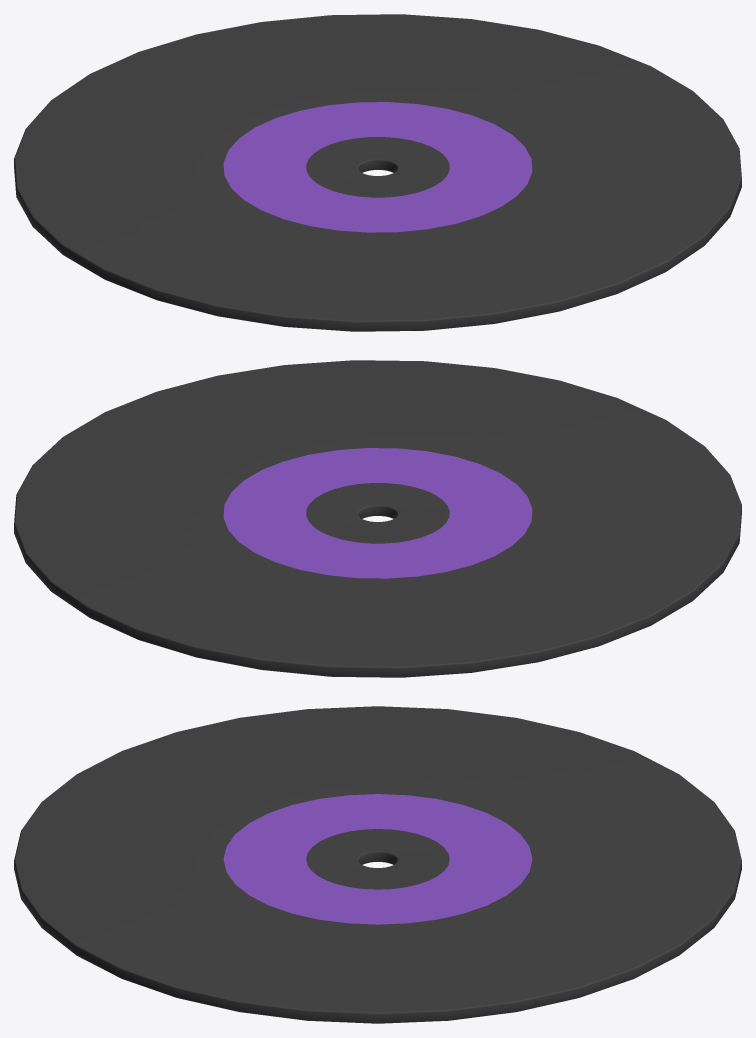
Rendered from Store_13_Vinyl_4.glb.
3 renders of one model, top to bottom at view 1: azimuth 30°, elevation 25°; view 2: azimuth 150°, elevation 25°; view 3: azimuth 270°, elevation 25°, orthographic.
Visible parts, largest first — view 1: Store_13_Vinyl_4; view 2: Store_13_Vinyl_4; view 3: Store_13_Vinyl_4.
Part boxes in pixels (x1,y1,x2,y2): Store_13_Vinyl_4: (14,14,741,331); Store_13_Vinyl_4: (14,360,741,677); Store_13_Vinyl_4: (14,706,741,1023).
Size of the model in its own units: 0.413 by 0.00711 by 0.413.
Materials: 1 (1 with a texture image).
